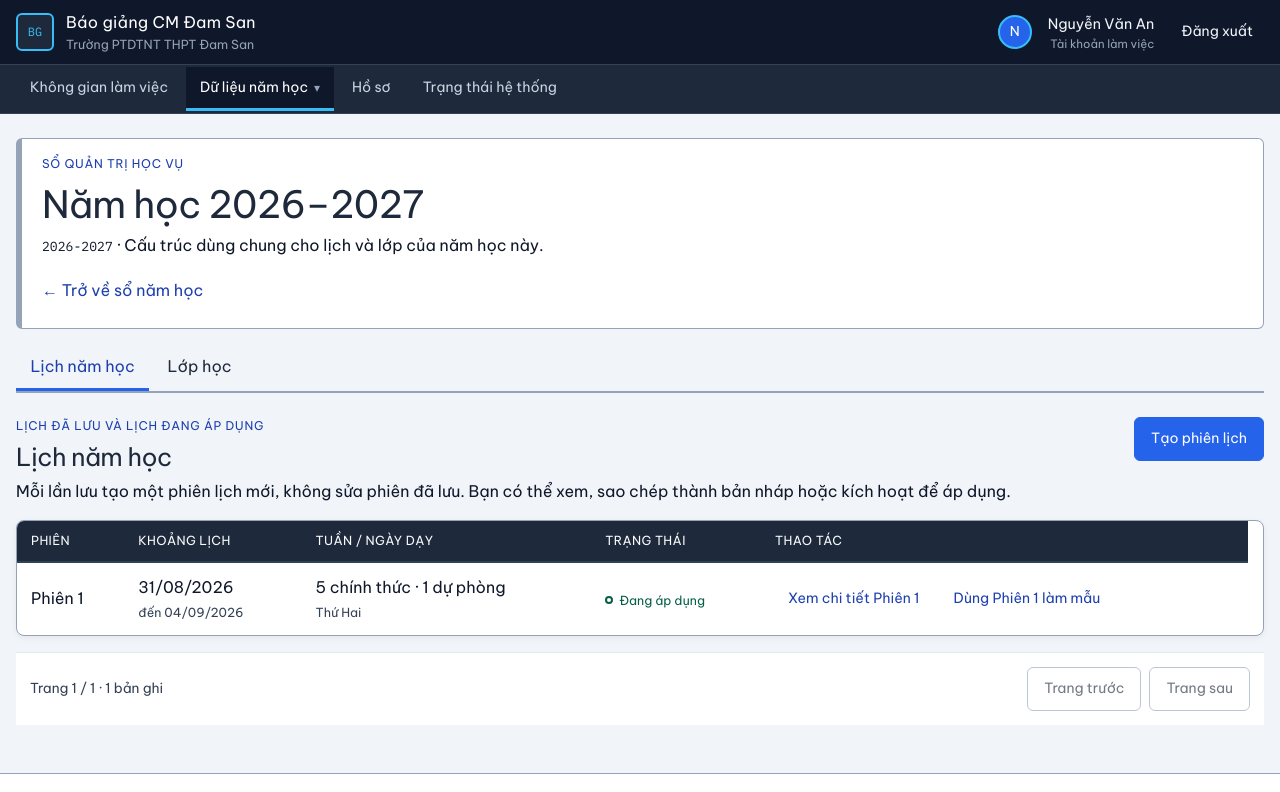
Test: academic structure pages › keeps active calendar actions hidden and renders each official or reserve week with its own segments
The width and height of the screenshot is (1280, 792).
Expected: the text "Đang áp dụng" is shown, top-left (605, 590), bottom-right (705, 610)
Click the button "Xem chi tiết Phiên 1" at (854, 599), box top-left (775, 577), bottom-right (932, 621)
(page scrolled)
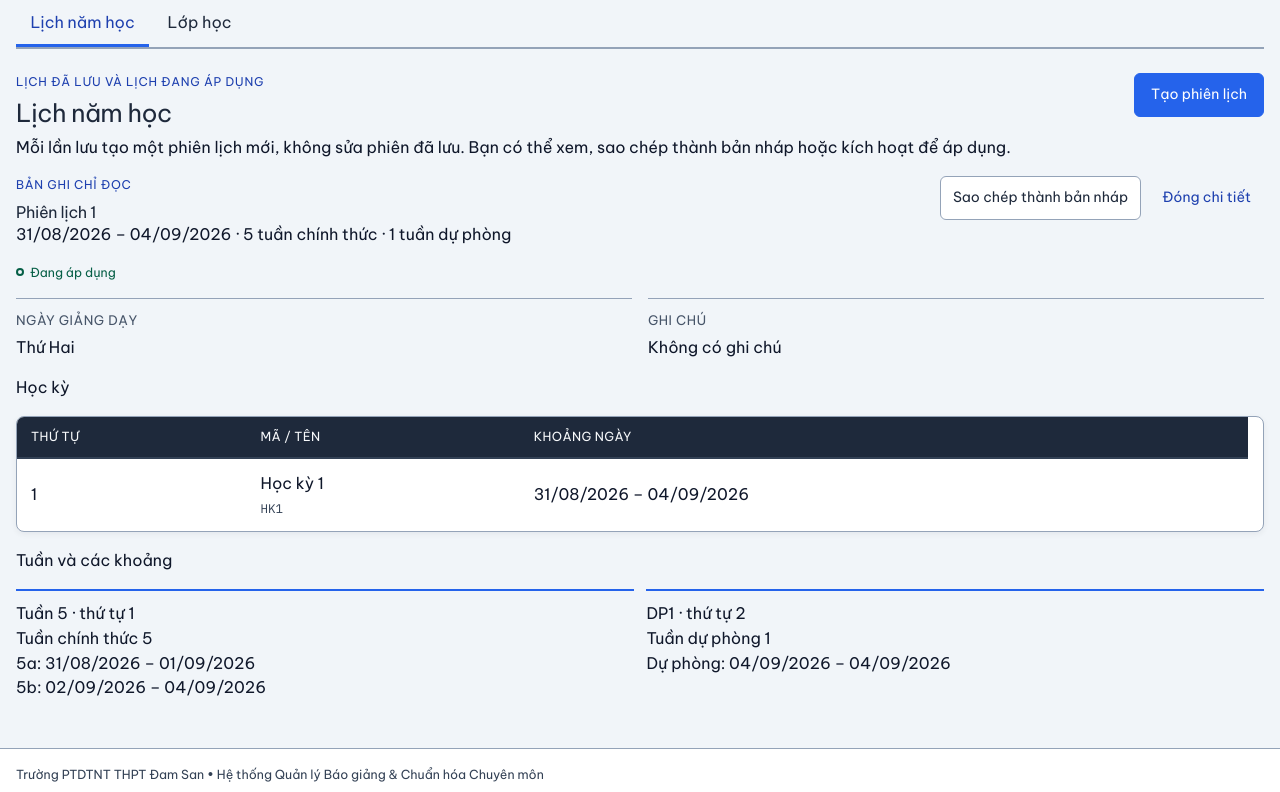
Now the text "5a" is shown, box top-left (16, 652), bottom-right (37, 672)
Now the text "5b" is shown, box top-left (16, 677), bottom-right (37, 697)
Now the text "Tuần dự phòng 1" is shown, box top-left (646, 628), bottom-right (771, 648)
